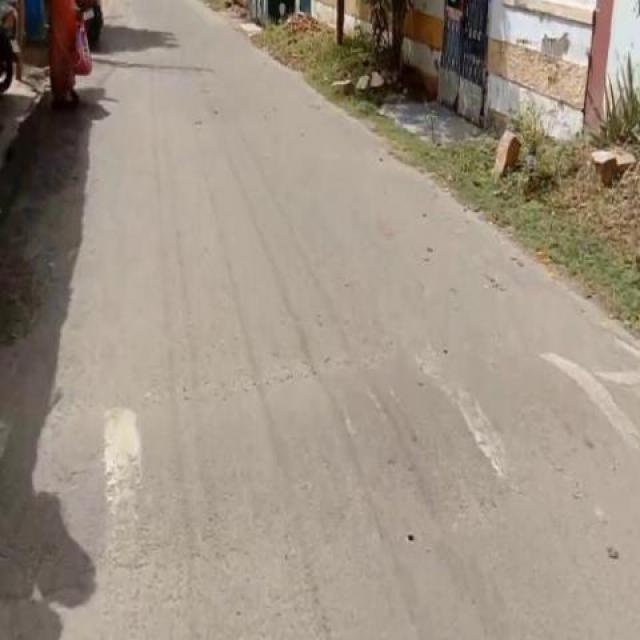Speed Bump: (0, 332, 639, 608)
